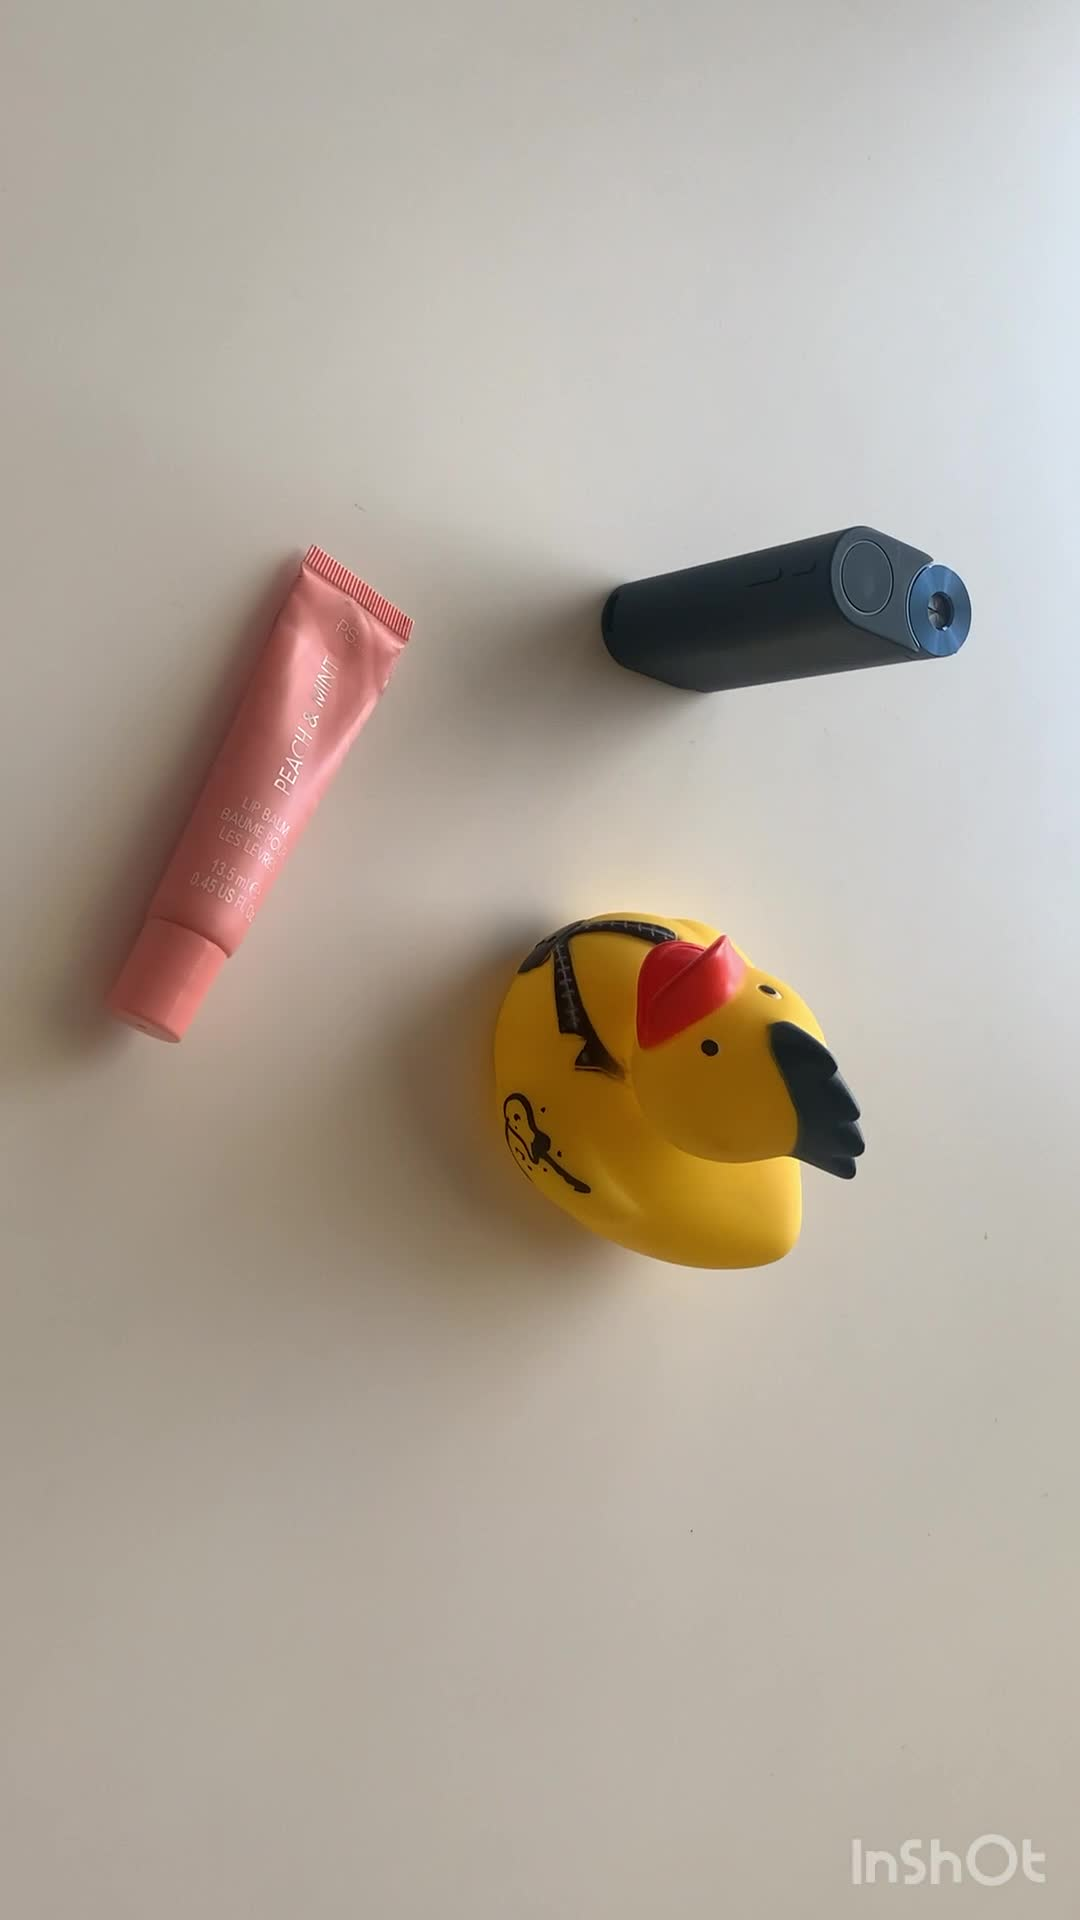duck: (491, 911, 864, 1276)
glo: (603, 527, 972, 698)
lip balm: (84, 534, 418, 1046)
